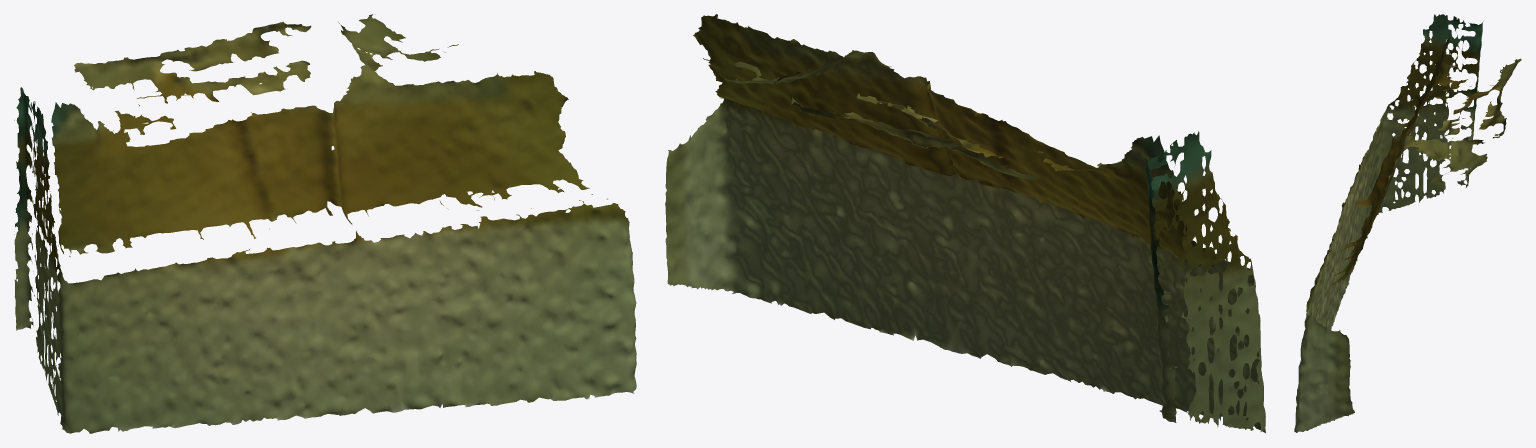
File: color_model_f010_20260206_132736.obj
The picture shows the model from 3 angles, left to right: view 1: azimuth 30°, elevation 25°; view 2: azimuth 150°, elevation 25°; view 3: azimuth 270°, elevation 25°; orthographic projection. The views are drawn at different scales.
Bounding box in the file's own units: 1.79 × 1.06 × 0.8995.
